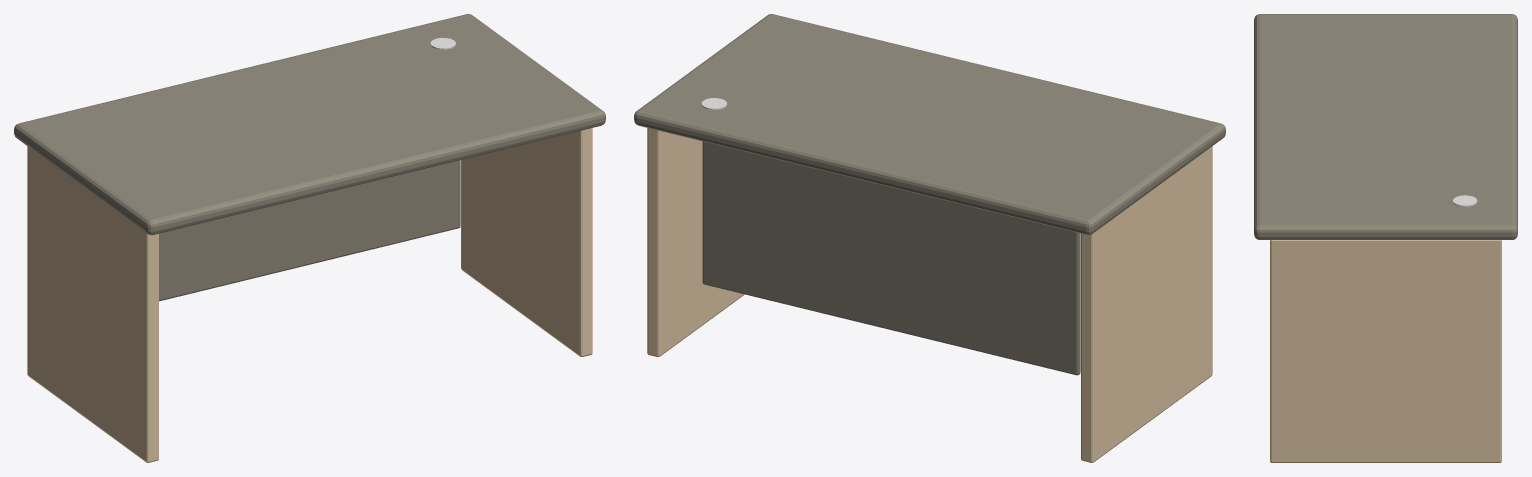
Rendered from isometric_workstation_variations_guide_09.glb.
3 renders of one model, left to right at view 1: azimuth 30°, elevation 25°; view 2: azimuth 150°, elevation 25°; view 3: azimuth 270°, elevation 25°, orthographic. The views are drawn at different scales.
Parts seen in each view (by area): view 1: Cube; view 2: Cube; view 3: Cube.
Boxes of the visible parts, x1,y1,x2,y2 form: Cube: (14, 14, 605, 462); Cube: (634, 14, 1225, 462); Cube: (1254, 14, 1517, 462).
Size of the model in its own units: 1.45 by 0.754 by 0.75.
